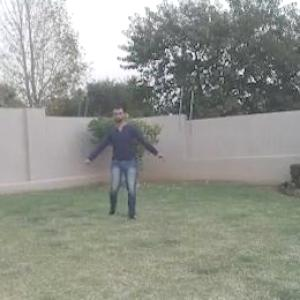land: (77, 92, 164, 231)
